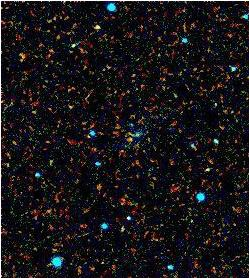star: (116, 122, 146, 152)
